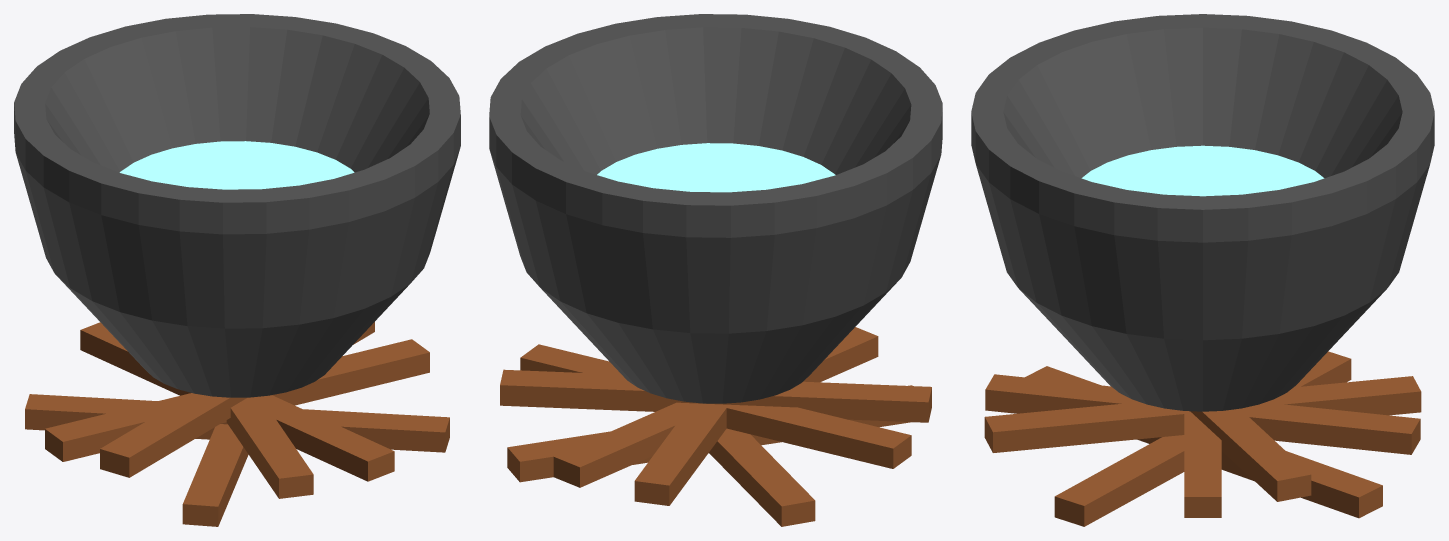
File: cauldron 1.fbx
3 views of the same model, side by side, from view 1: azimuth 30°, elevation 25°; view 2: azimuth 150°, elevation 25°; view 3: azimuth 270°, elevation 25° (orthographic). The views are drawn at different scales.
Parts seen in each view (by area): view 1: Cylinder, Cube.005, Cylinder.001; view 2: Cylinder, Cube.005, Cylinder.001; view 3: Cylinder, Cube.005, Cylinder.001.
Boxes of the visible parts, x1=… form: Cylinder: x1=14, y1=14, x2=460, y2=397; Cube.005: x1=25, y1=322, x2=449, y2=526; Cylinder.001: x1=119, y1=141, x2=354, y2=189; Cylinder: x1=489, y1=14, x2=942, y2=403; Cube.005: x1=500, y1=327, x2=931, y2=526; Cylinder.001: x1=597, y1=143, x2=835, y2=192; Cylinder: x1=971, y1=14, x2=1434, y2=411; Cube.005: x1=984, y1=351, x2=1421, y2=526; Cylinder.001: x1=1081, y1=145, x2=1324, y2=196.
Size of the model in its own units: 636 by 516 by 636.
